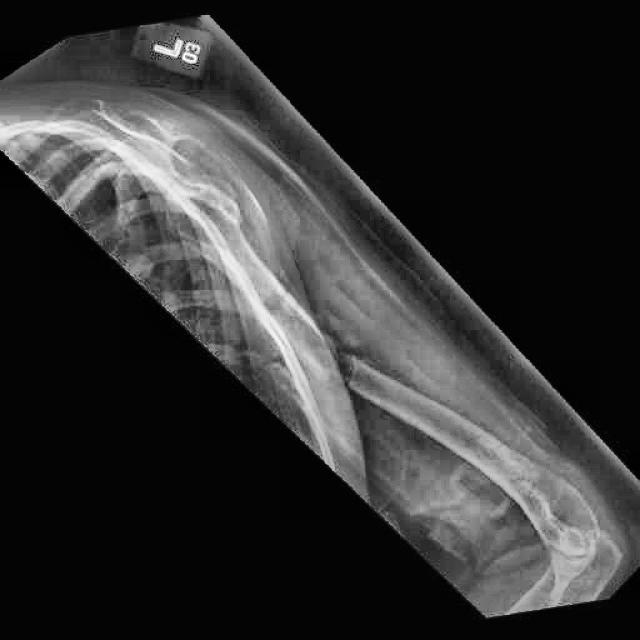humerus: (287, 287, 430, 446)
